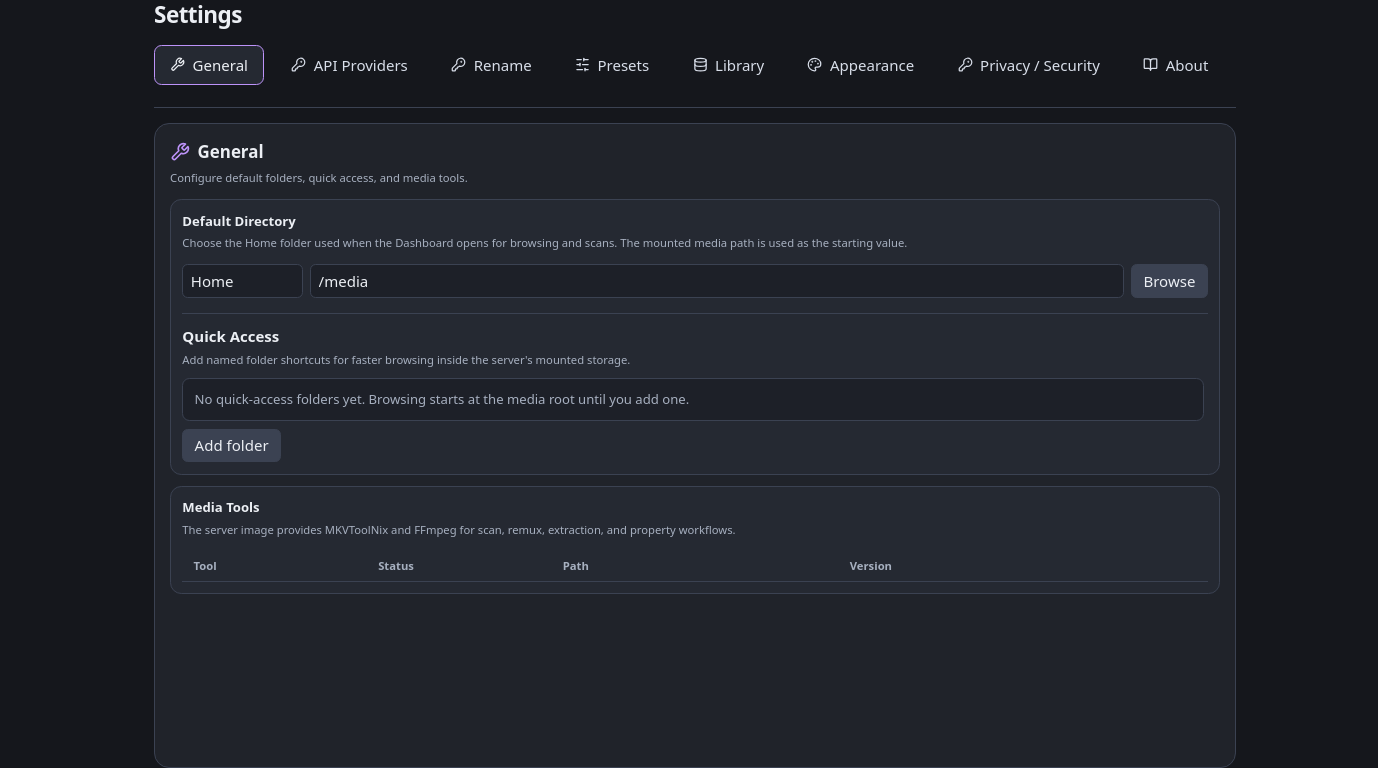
Scenario: Settings providers › preserves tab selection in the URL and keeps tabs outside the active card
This screenshot has width=1378, height=768.
Click the button "Appearance" at (861, 65), box [792, 45, 930, 84]
(page scrolled)
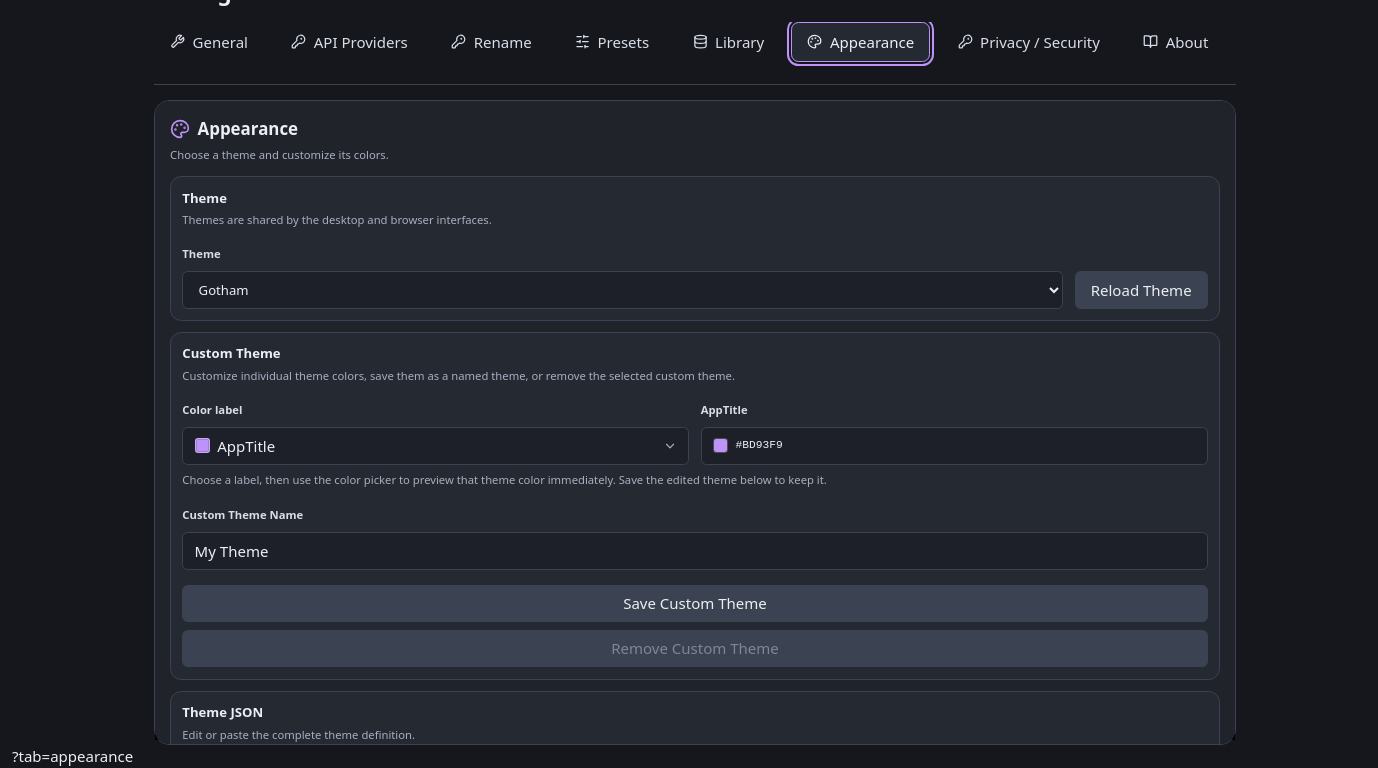
Now the text with test id "settings-location" reads "?tab=appearance", box [12, 746, 133, 766]
